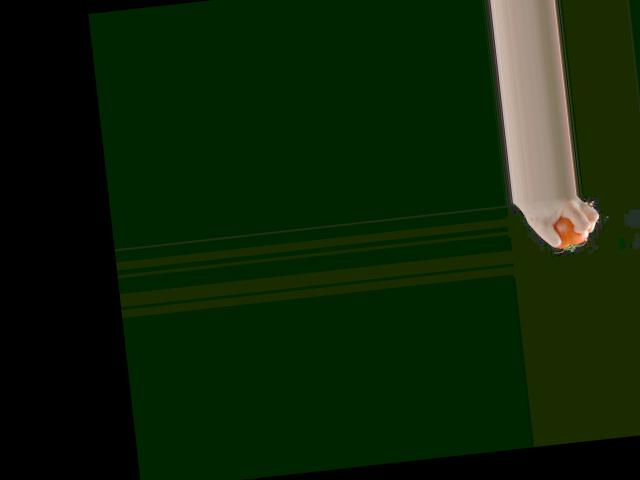tomato: (551, 214, 589, 248)
